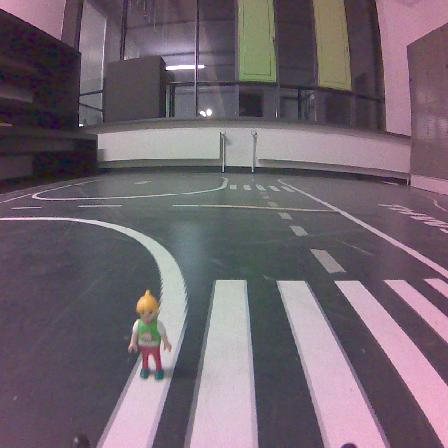CHILD: (128, 290, 171, 380)
